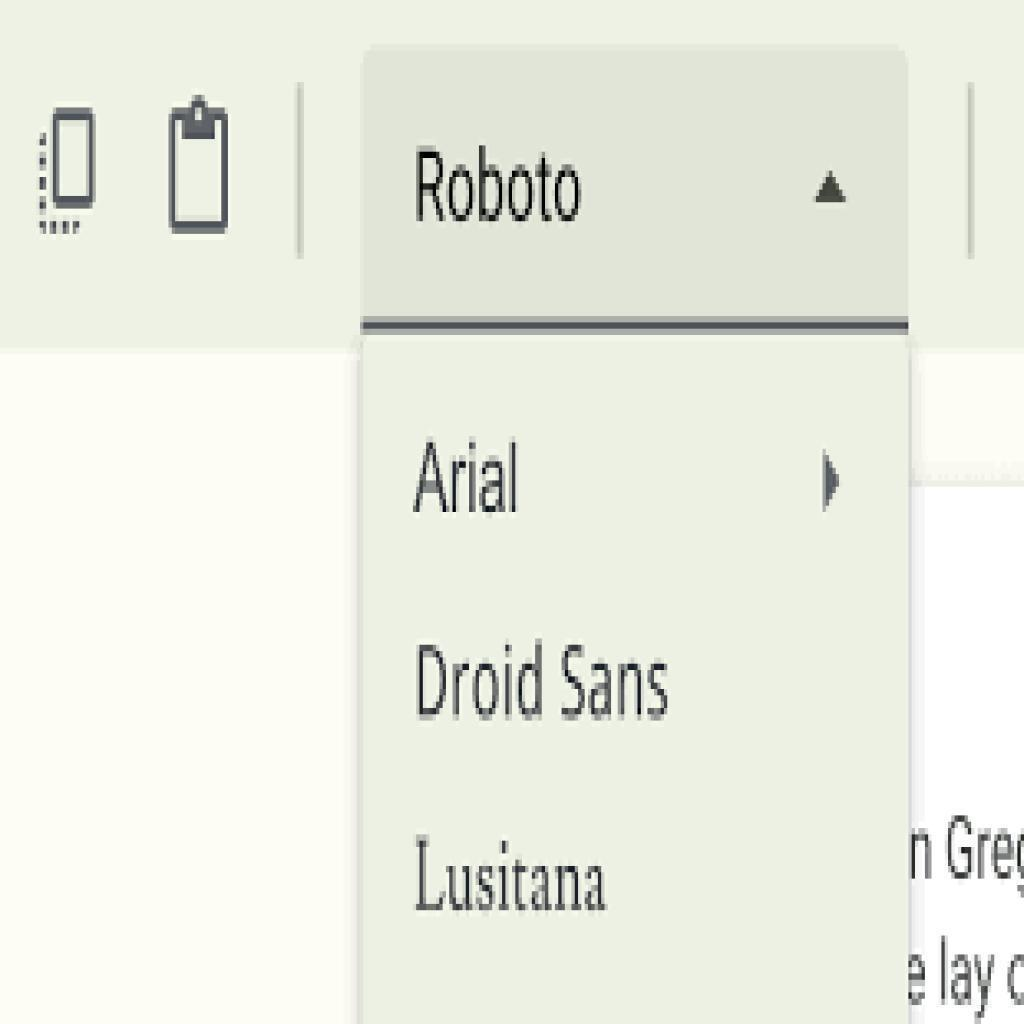dropdown: (361, 49, 912, 320)
icon: (159, 100, 243, 235), (27, 96, 103, 243)
label: (412, 623, 678, 726), (405, 821, 611, 924)
